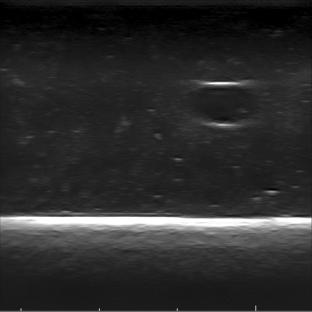vessel: (182, 81, 260, 129)
